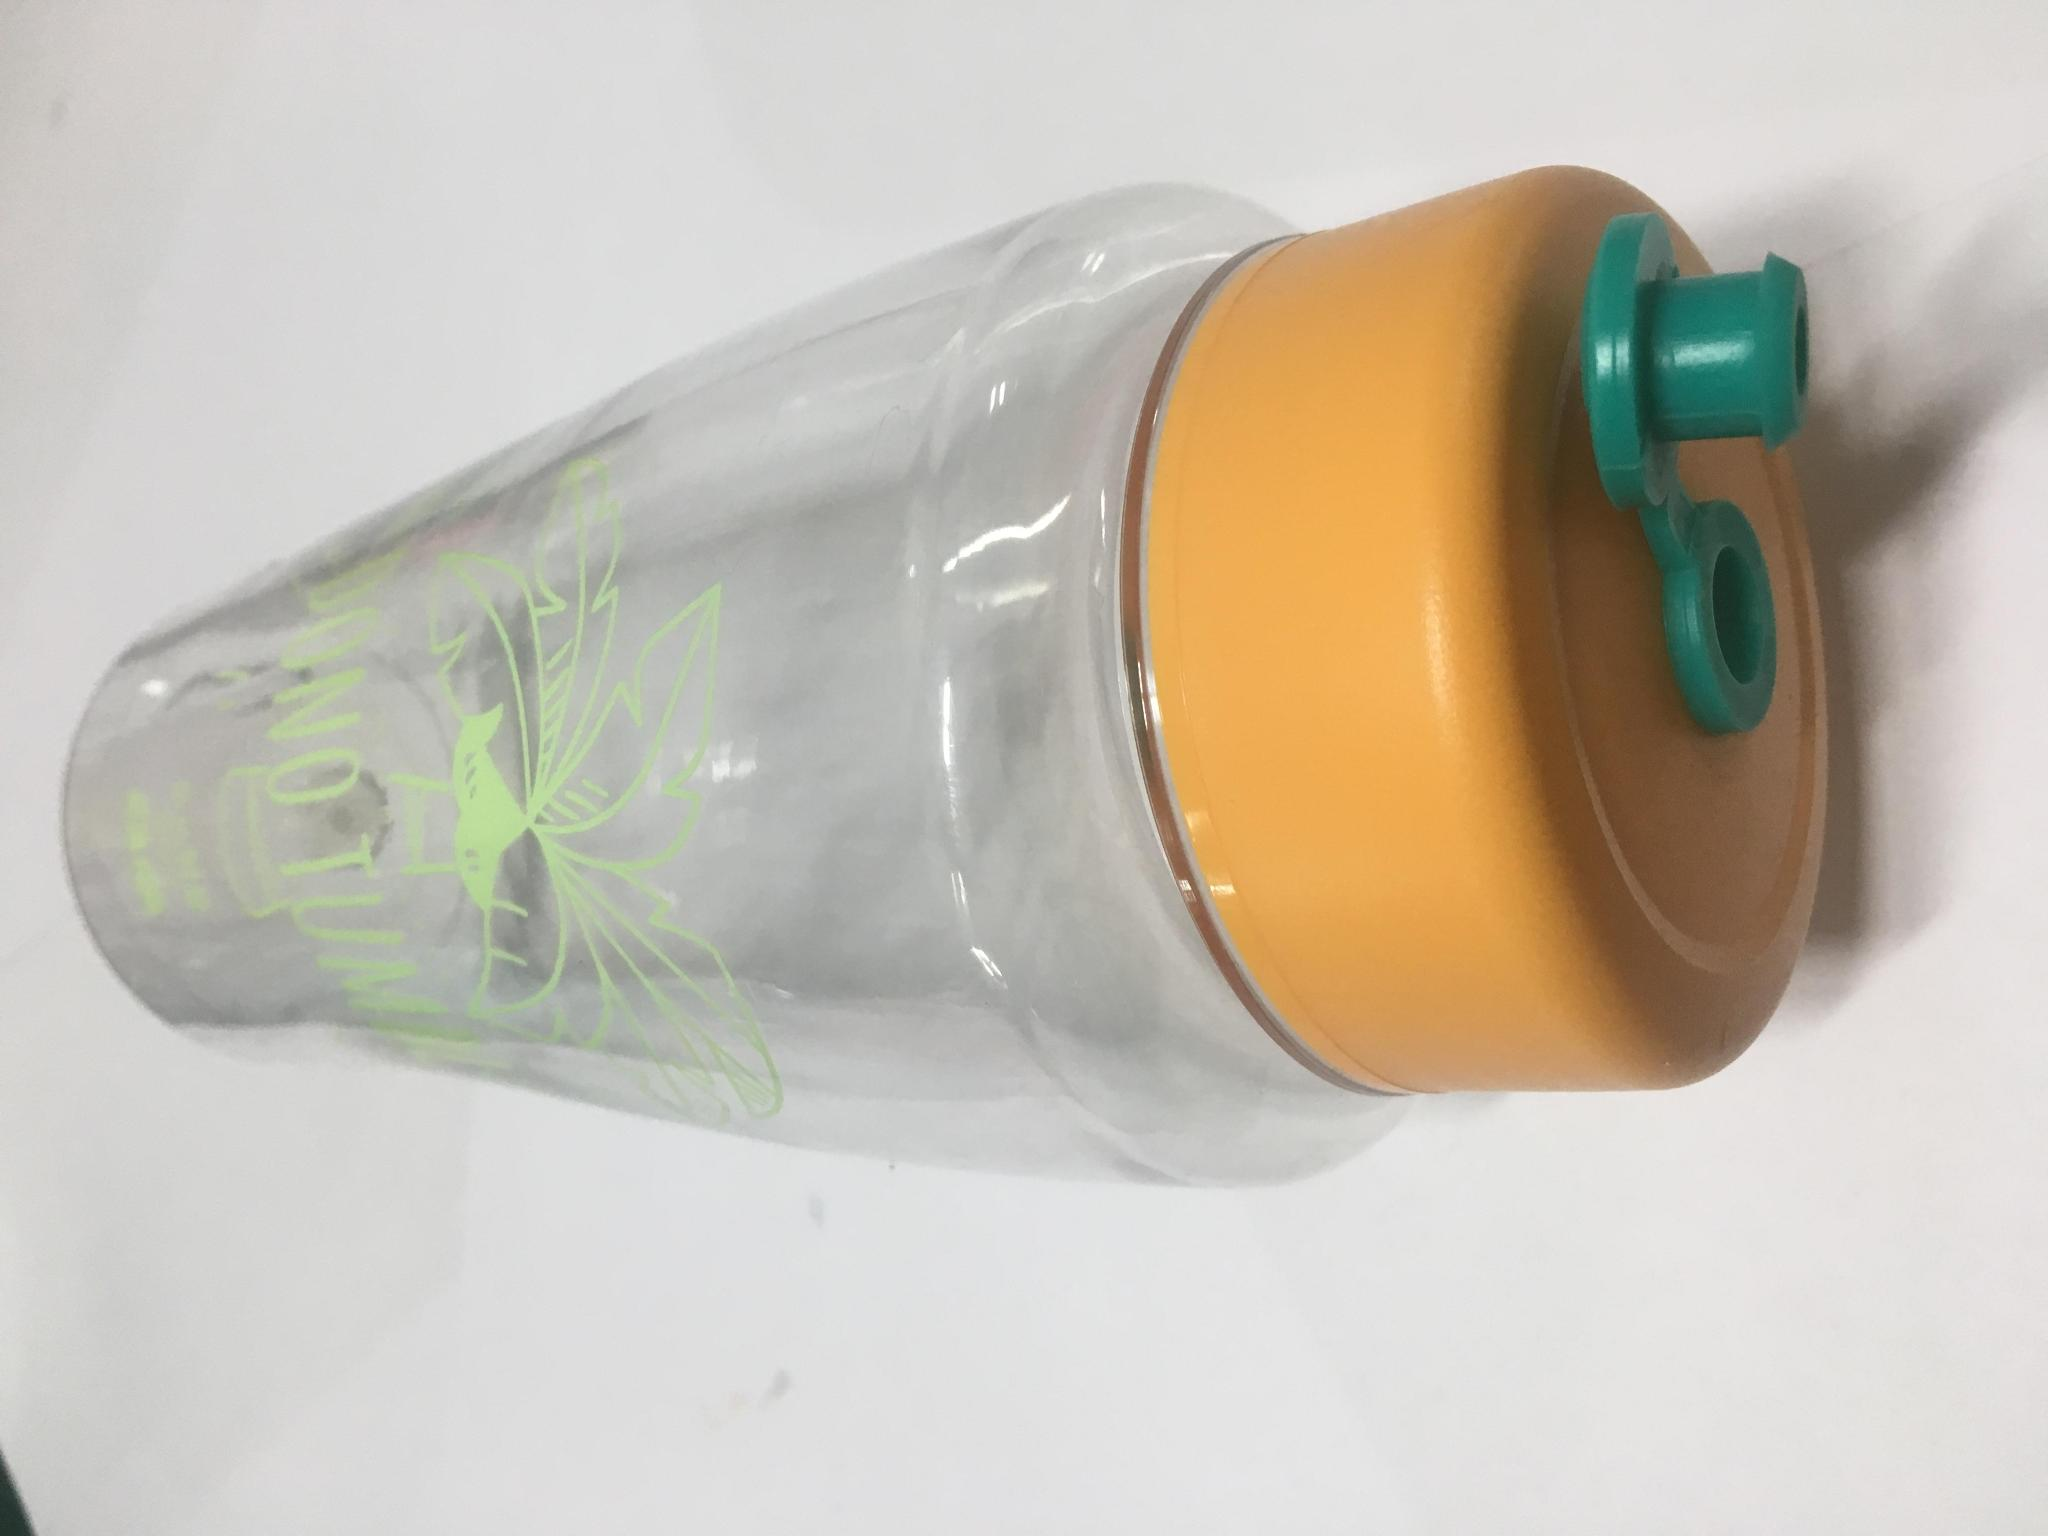bottle: (64, 158, 1886, 1240)
